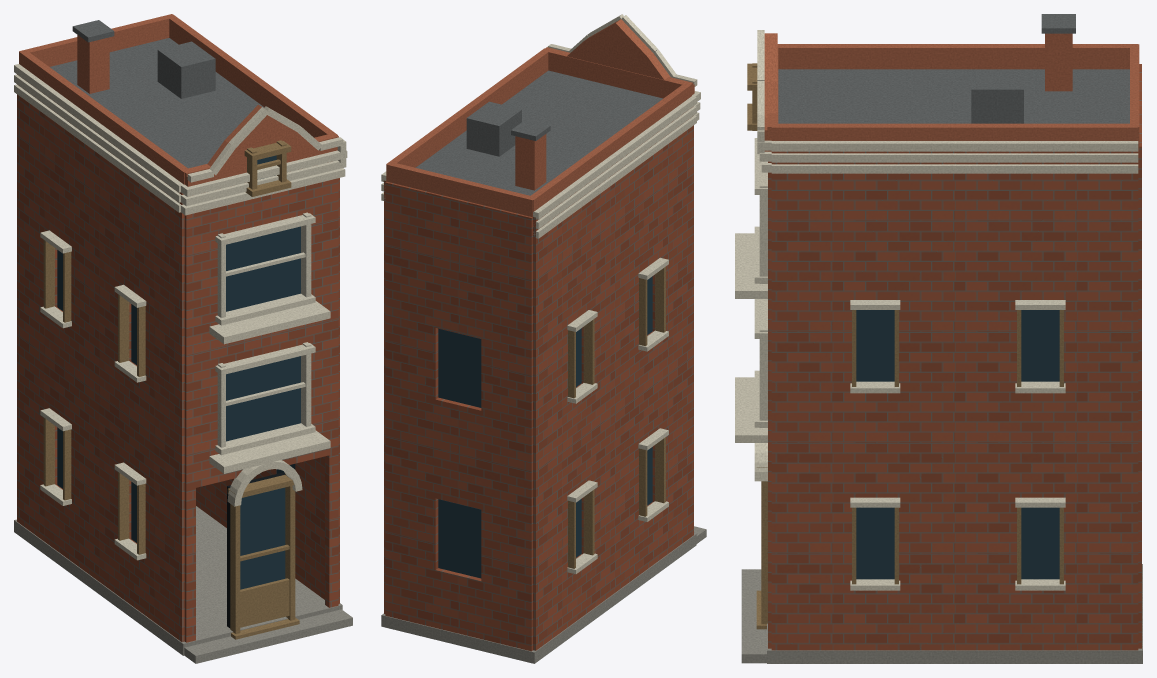
Rendered from VICT14_lod2.glb.
3 views of the same model, side by side, from view 1: azimuth 30°, elevation 25°; view 2: azimuth 150°, elevation 25°; view 3: azimuth 270°, elevation 25° (orthographic). The views are drawn at different scales.
Parts seen in each view (by area): view 1: VICT14_LOD2; view 2: VICT14_LOD2; view 3: VICT14_LOD2.
Boxes of the visible parts, x1=… form: VICT14_LOD2: x1=14, y1=14, x2=352, y2=663; VICT14_LOD2: x1=381, y1=14, x2=706, y2=663; VICT14_LOD2: x1=735, y1=14, x2=1142, y2=663.
Bounding box in the file's own units: 3.71 × 10.65 × 6.67.
Materials: 8 (6 with a texture image).
